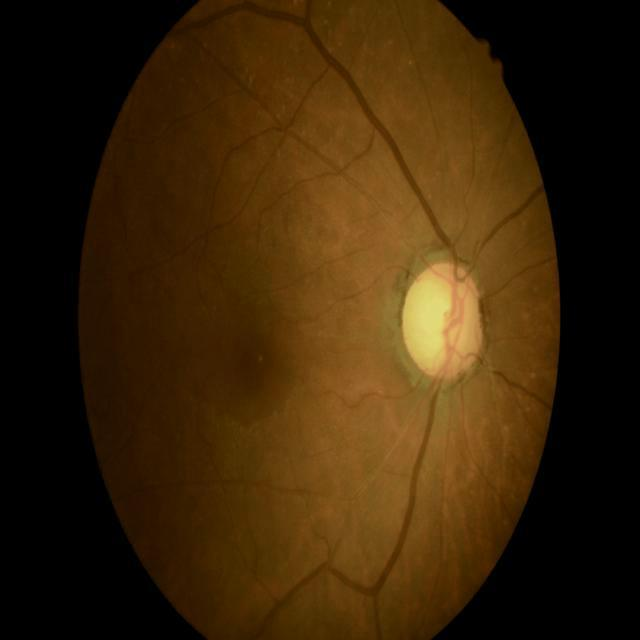cup: (408, 278, 470, 368)
disk: (400, 262, 484, 380)
